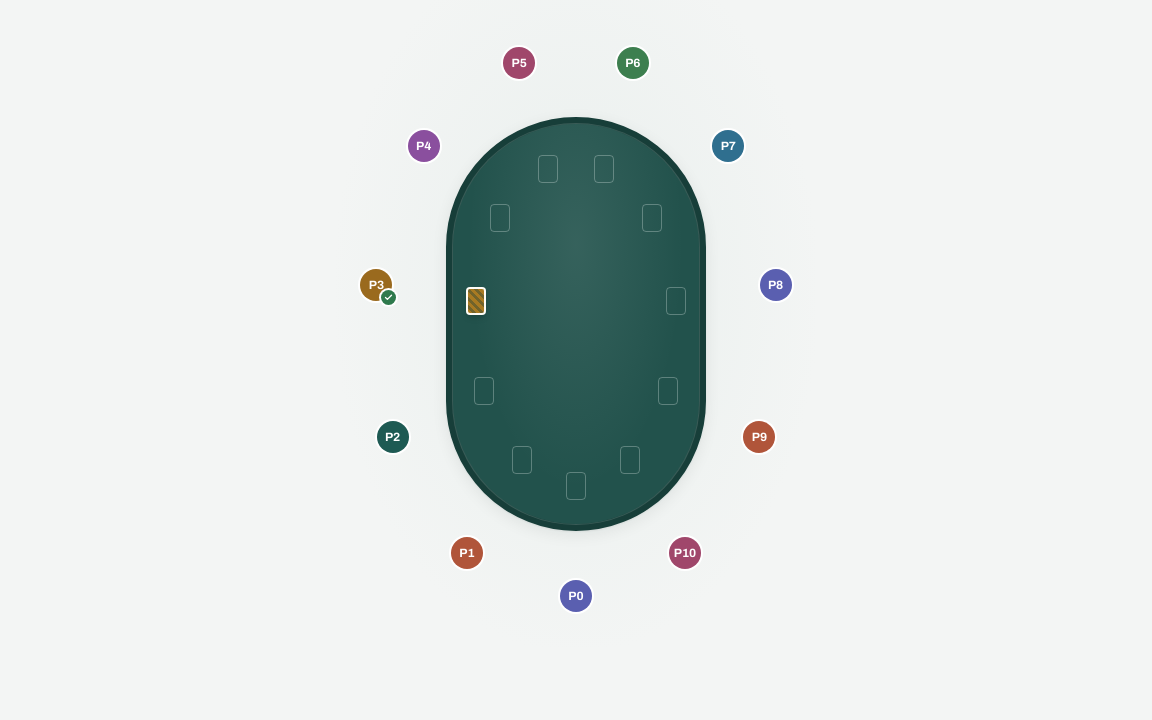
Test: TableStage › shows initials only with more than 10 people on a phone, the name on tap
Click the button named "Person 3, voted" at (376, 285), box [354, 263, 398, 307]
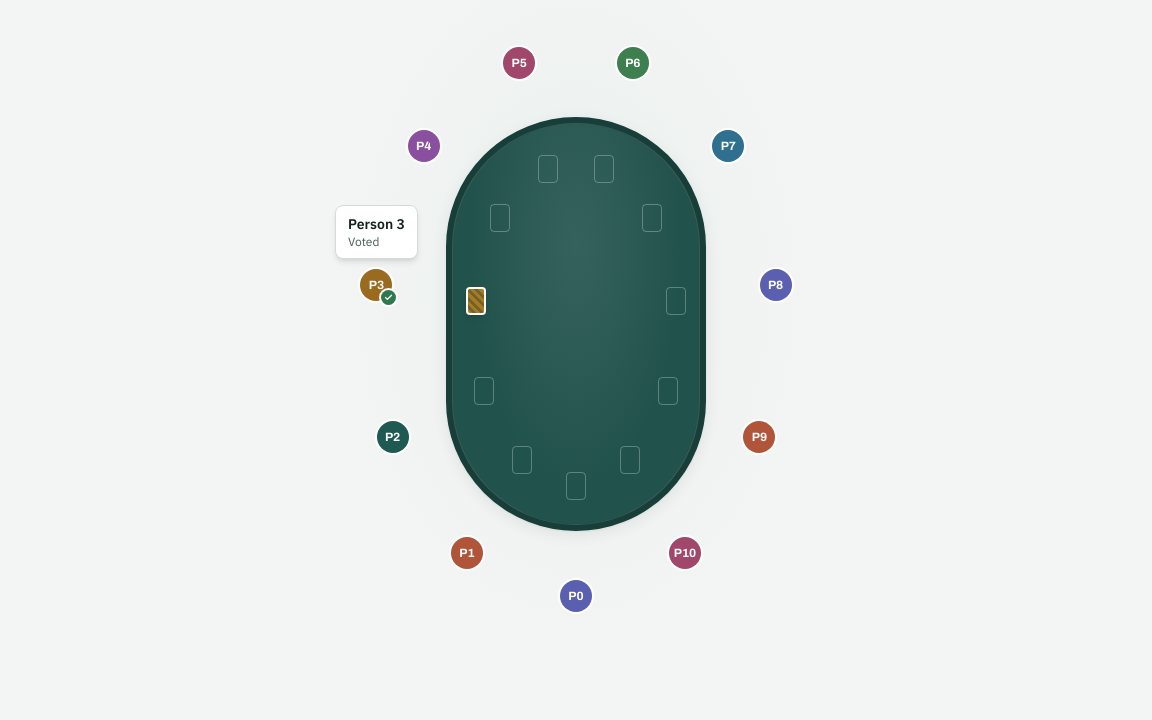
Result: the dialog reads "Person 3 Voted" at [335, 205, 418, 259]
